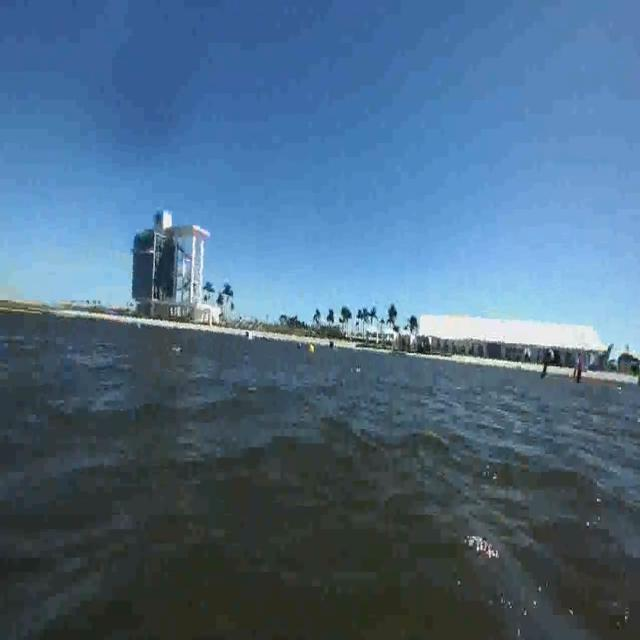yellow-buoy: (307, 343, 314, 356)
